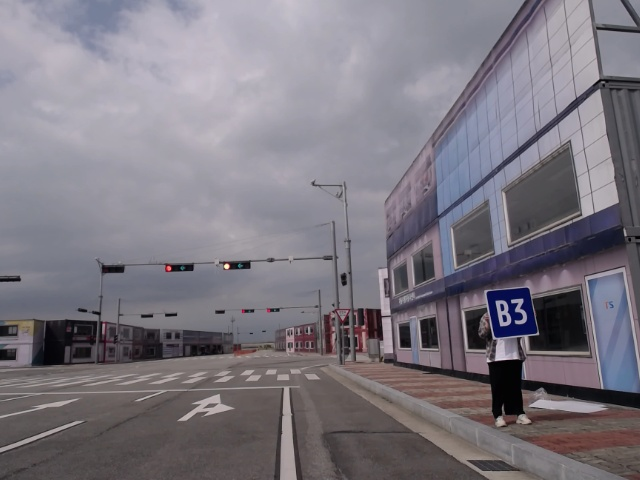delivery_b3: (481, 285, 540, 340)
left_green_4: (162, 260, 197, 273), (220, 258, 254, 270), (264, 305, 281, 314), (240, 308, 256, 315)
